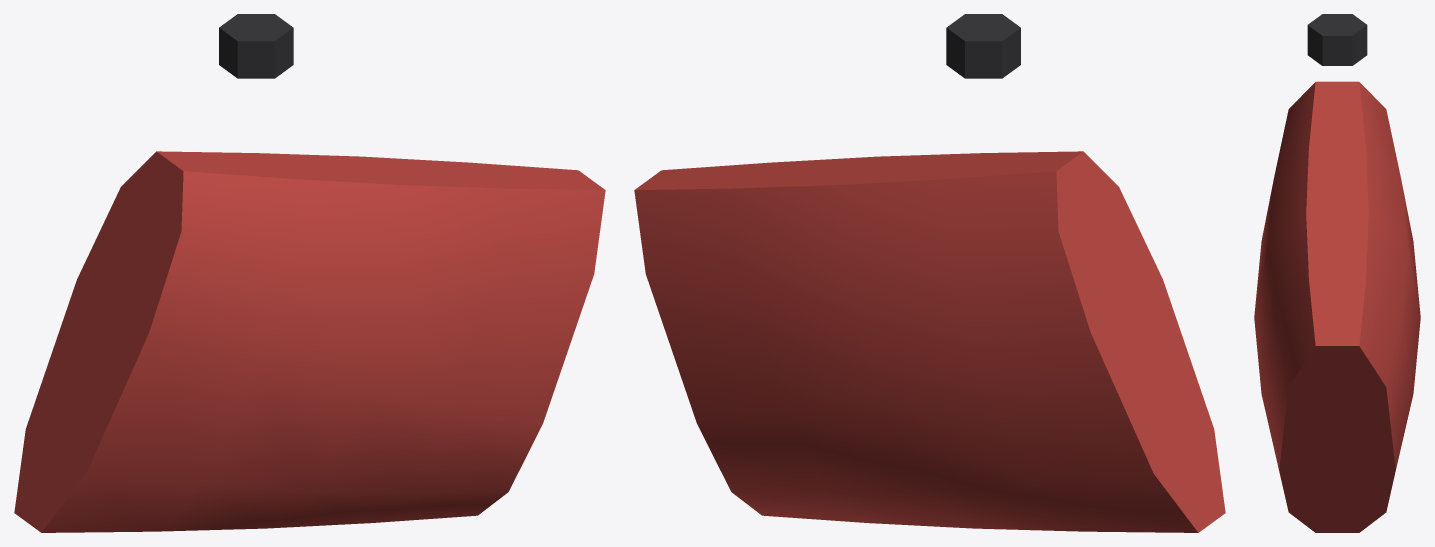
The model's file is side_tank_lod1.glb.
3 views of the same model, side by side, from view 1: azimuth 30°, elevation 25°; view 2: azimuth 150°, elevation 25°; view 3: azimuth 270°, elevation 25° (orthographic). The views are drawn at different scales.
Parts seen in each view (by area): view 1: side_tank_lod1; view 2: side_tank_lod1; view 3: side_tank_lod1.
Boxes of the visible parts, left/top/right/bottom form: side_tank_lod1: left=14, top=14, right=605, bottom=532; side_tank_lod1: left=634, top=14, right=1225, bottom=532; side_tank_lod1: left=1254, top=14, right=1420, bottom=532.
Size of the model in its own units: 0.3152 by 0.2824 by 0.1.
